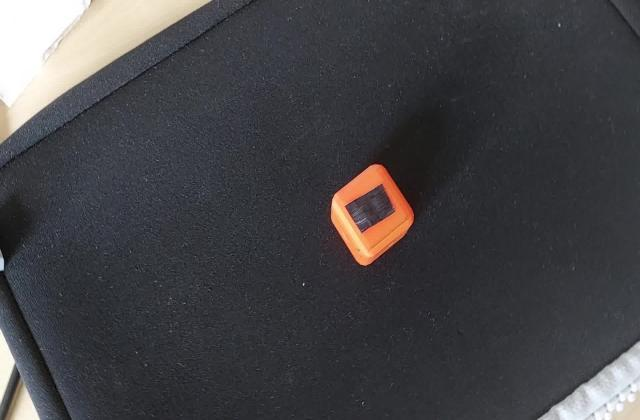black: (338, 184, 398, 234)
sticker: (326, 161, 416, 270)
